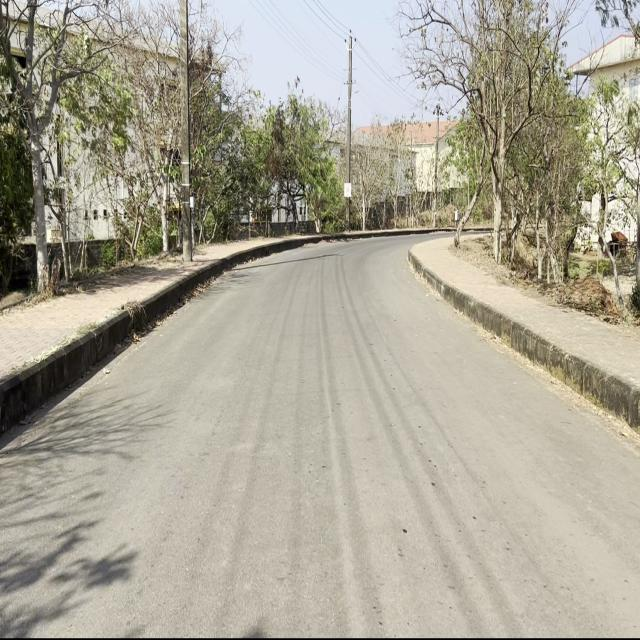Road: (3, 235, 637, 634)
